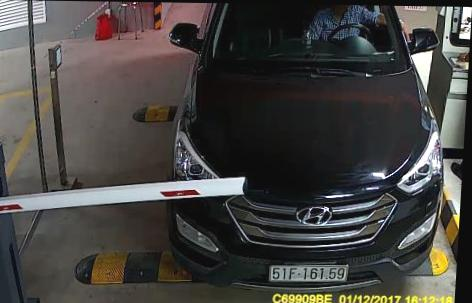License_Plate: (265, 261, 353, 287)
